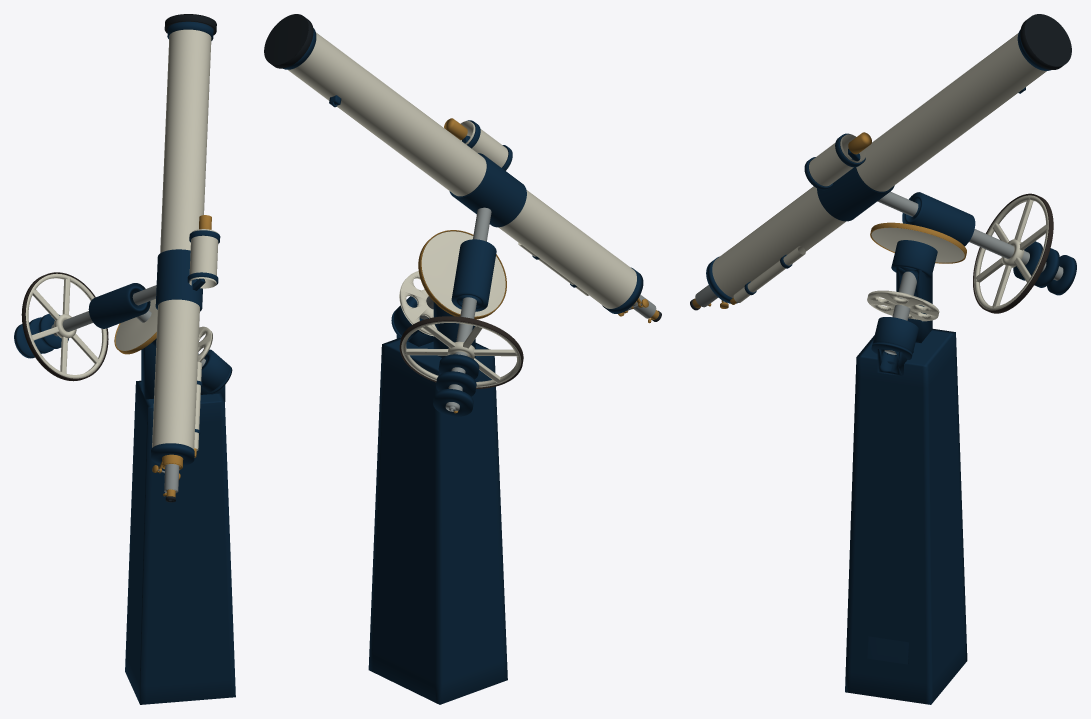
File: observatory-telescope-01.glb
3 views of the same model, side by side, from view 1: azimuth 30°, elevation 25°; view 2: azimuth 150°, elevation 25°; view 3: azimuth 270°, elevation 25° (orthographic). The views are drawn at different scales.
Visible parts, largest first — view 1: painted_steel, steel, brass; view 2: painted_steel, steel, brass; view 3: painted_steel, steel, brass.
Boxes of the visible parts, box(x1,y1,x2,y2) form: painted_steel: box(14, 14, 235, 704); steel: box(51, 285, 205, 492); brass: box(114, 215, 211, 497); painted_steel: box(264, 14, 643, 704); steel: box(419, 207, 656, 411); brass: box(418, 118, 659, 413); painted_steel: box(706, 14, 1076, 704); steel: box(695, 191, 1063, 354); brass: box(692, 132, 966, 308).
Bounding box in the file's own units: 1.98 × 5.56 × 2.8.
